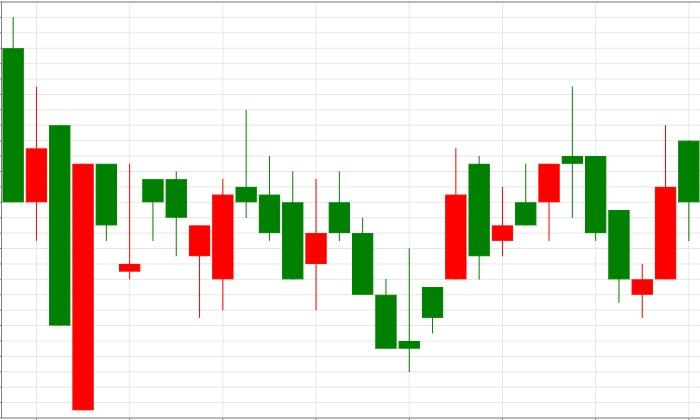evening_star_fall: (398, 85, 607, 373)
